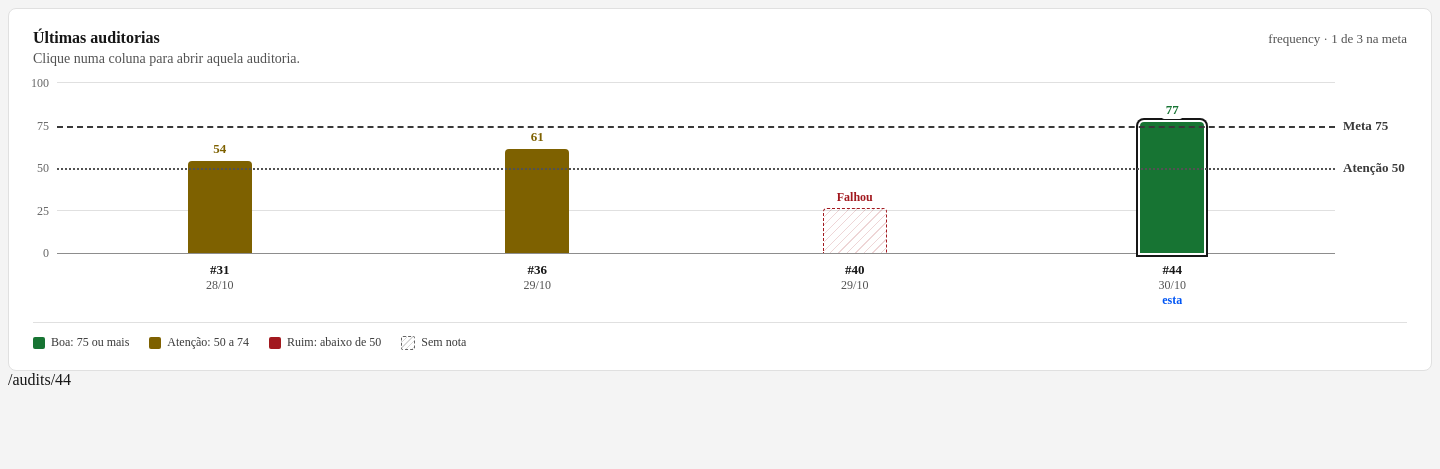
it: AuditHistoryChart › na auditoria aberta a dica avisa que a pessoa já está nela
Focus the link named "Abrir a auditoria 44" at (1172, 168), box [1140, 83, 1204, 253]
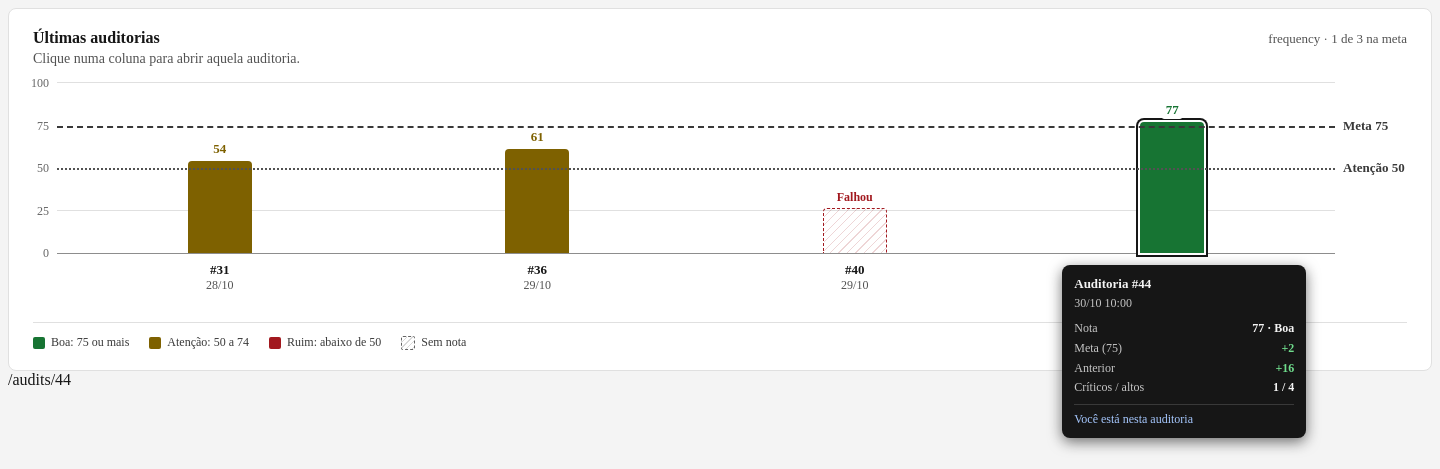
Now the message shows "Você está nesta auditoria", box [1074, 412, 1193, 426]
